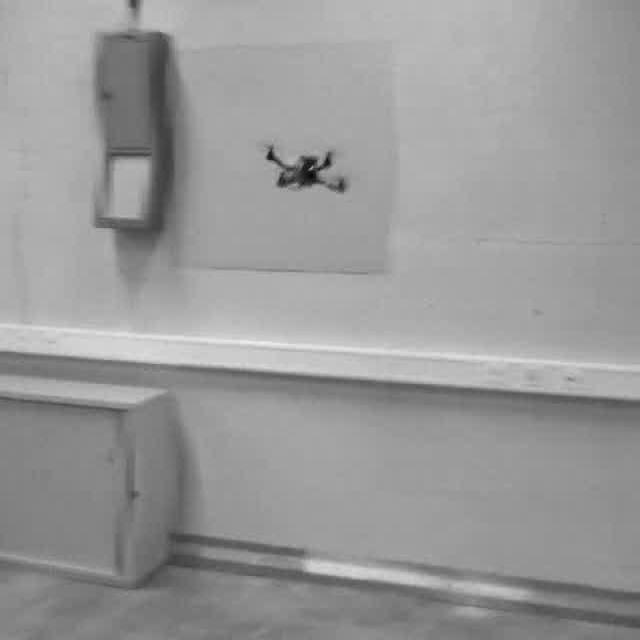drone: (259, 136, 349, 196)
